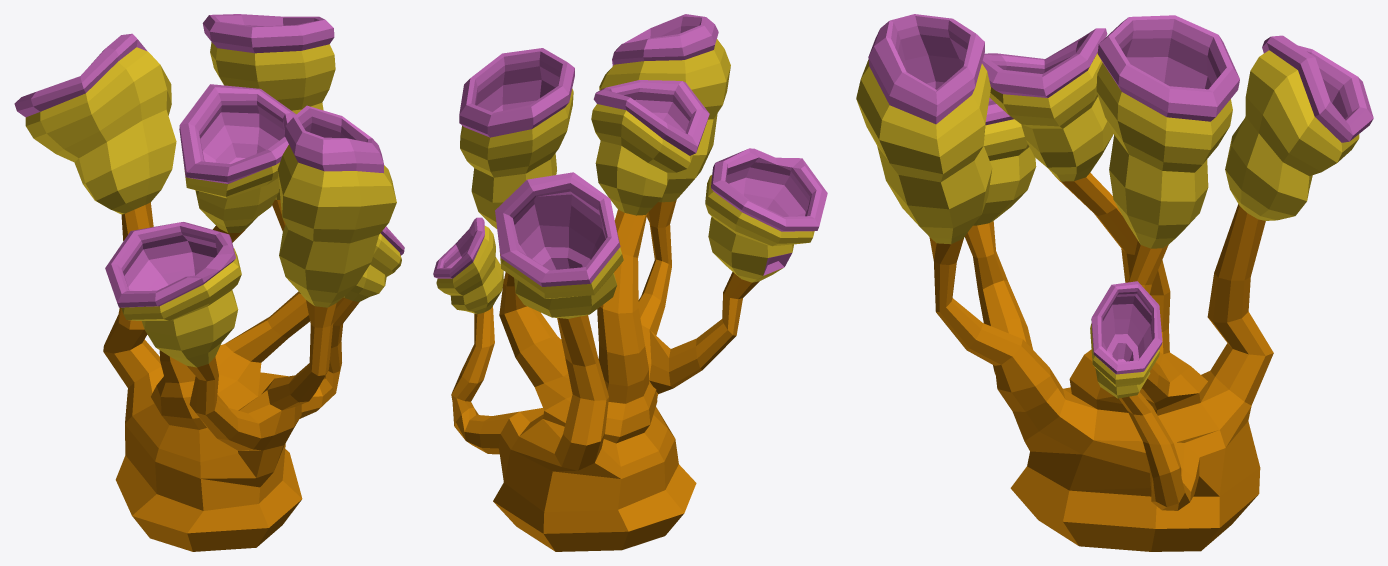
The model's file is Tree_16_Var_02.fbx.
3 renders of one model, left to right at view 1: azimuth 30°, elevation 25°; view 2: azimuth 150°, elevation 25°; view 3: azimuth 270°, elevation 25°, orthographic. The views are drawn at different scales.
Visible parts, largest first — view 1: Tree_16_Var_02; view 2: Tree_16_Var_02; view 3: Tree_16_Var_02.
Part boxes in pixels (x1,y1,x2,y2): Tree_16_Var_02: (14,14,404,551); Tree_16_Var_02: (433,14,827,551); Tree_16_Var_02: (856,14,1373,551).
Size of the model in its own units: 2.76 by 3.13 by 2.34.
